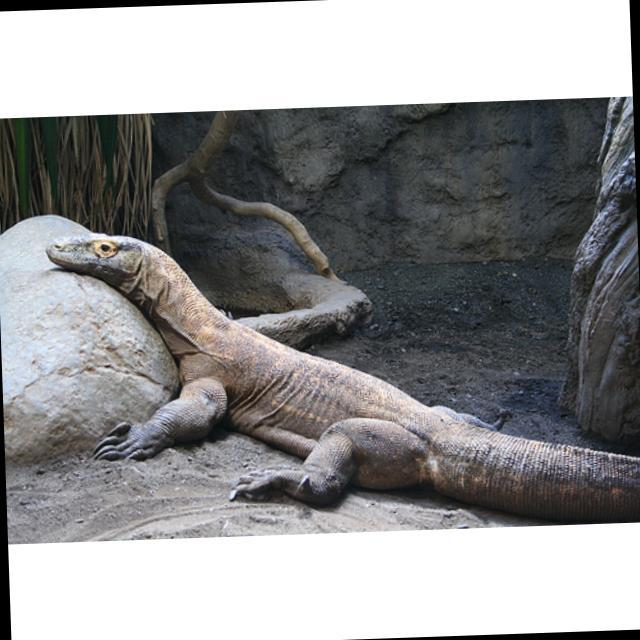KomodoDragon: (44, 216, 640, 539)
